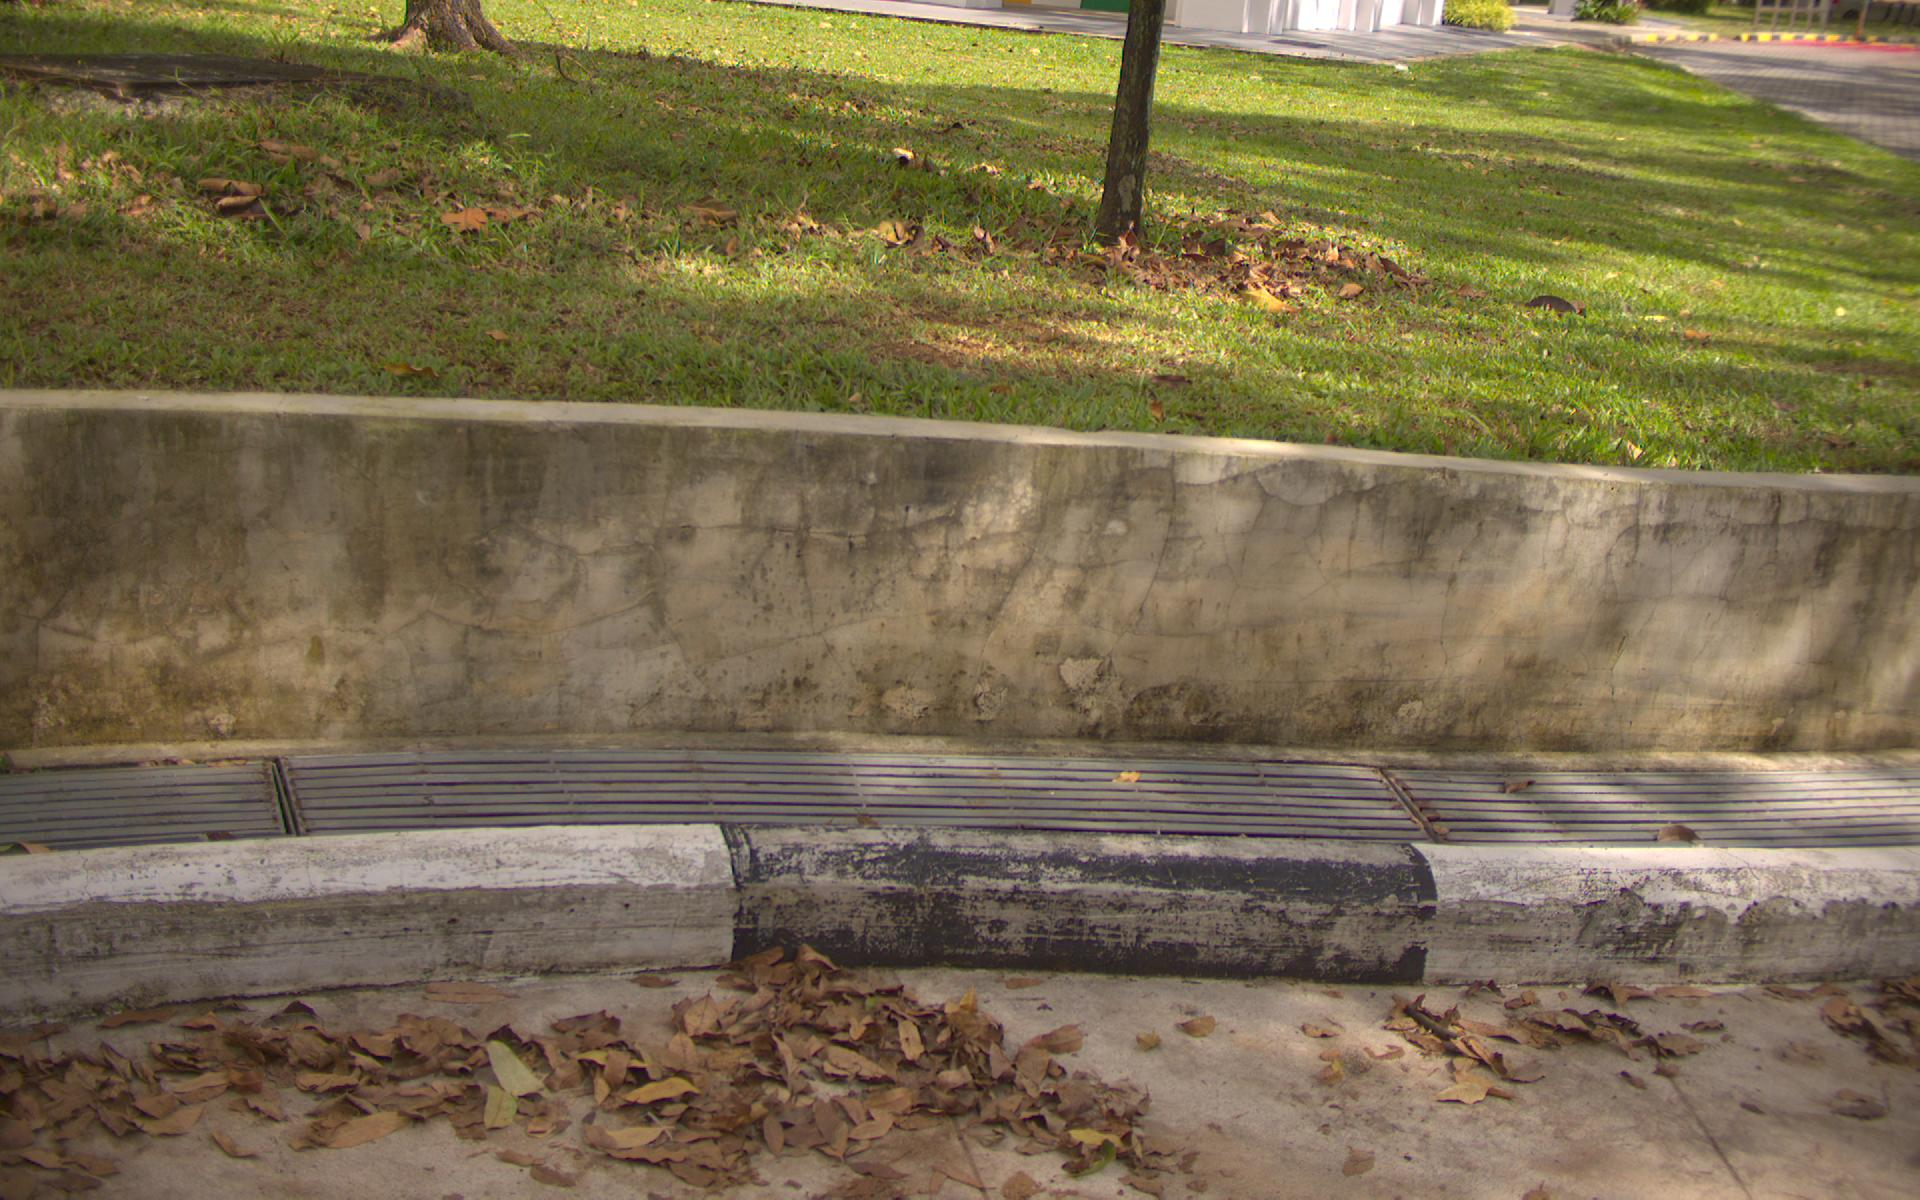curb_dic_low: (93, 747, 1908, 827)
road_curb_medium: (47, 1011, 1920, 1200)
road_turf_low: (1, 165, 1906, 373)
